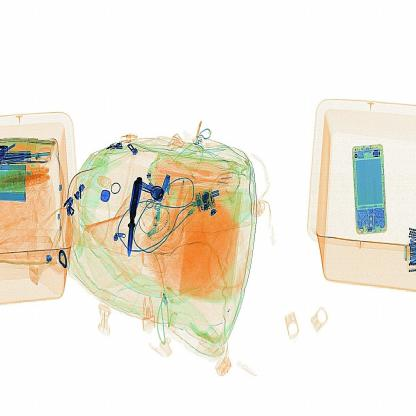gun: (120, 171, 155, 261)
